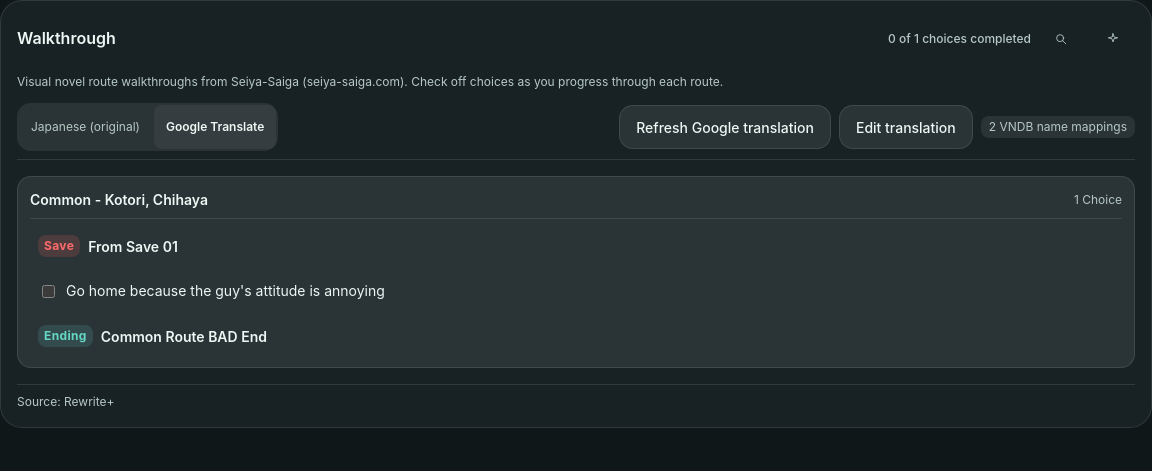
WalkthroughCard › regenerates a cached Google translation and keeps current checked progress
Expected: the text "Common - Kotori, Chihaya" is shown, [30,189,208,210]
Expected: the element "Refresh Google translation" is shown, [619,105,1135,149]
Click the button "Refresh Google translation" at [725, 127], box [619,105,831,149]
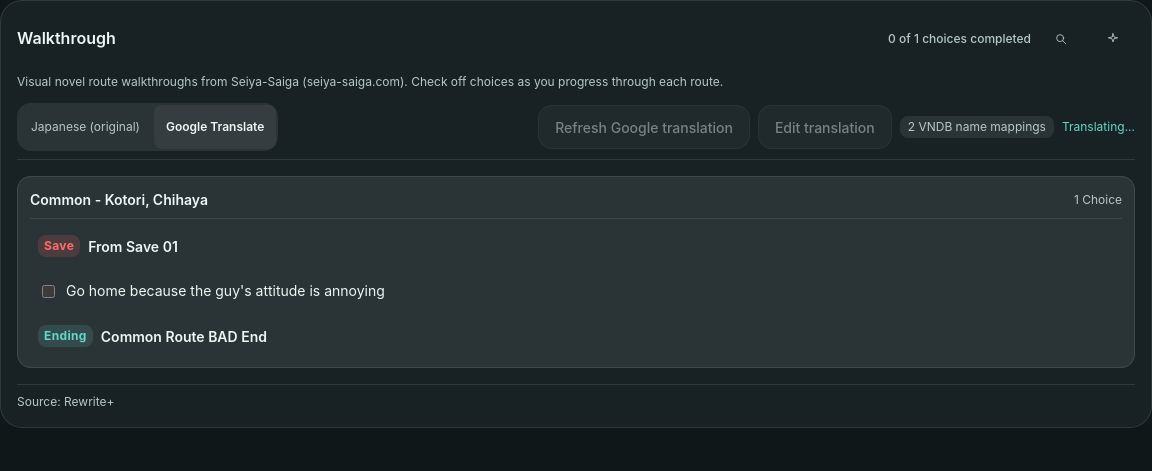
Expected: the button "Refresh Google translation" is disabled, [538,105,750,149]
Click the checkbox at [48, 291], box [42,284,55,298]
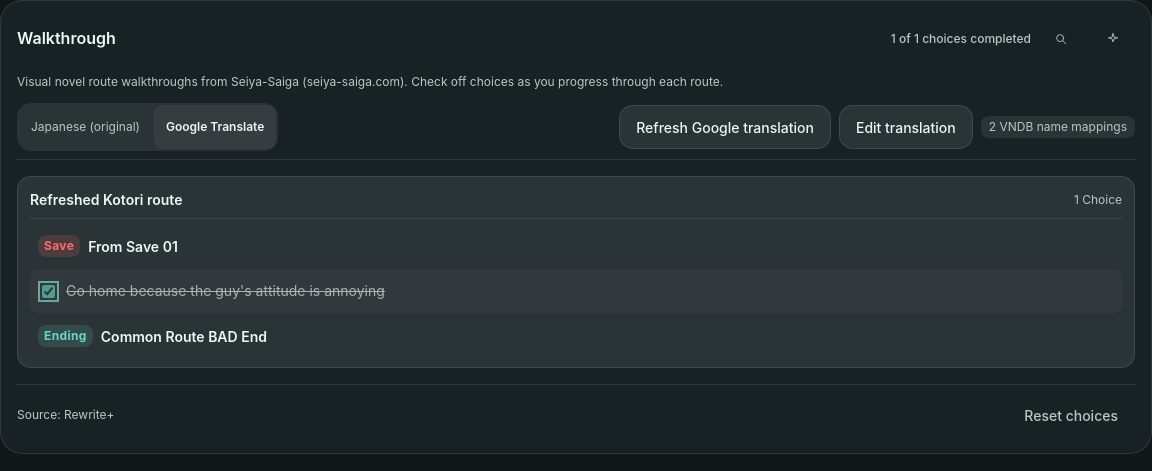
Expected: the checkbox is checked, [42,284,55,298]
Expected: the text "Refreshed Kotori route" is shown, [30,189,182,210]
Click the button "Japanese (original)" at [85, 127], box [19,105,152,149]
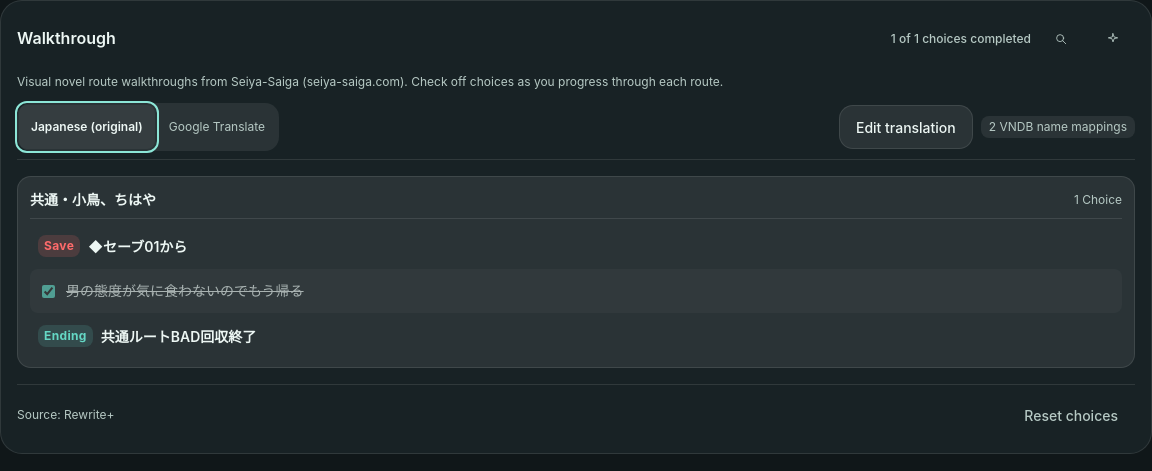
Expected: the text "共通・小鳥、ちはや" is shown, [30,189,156,210]
